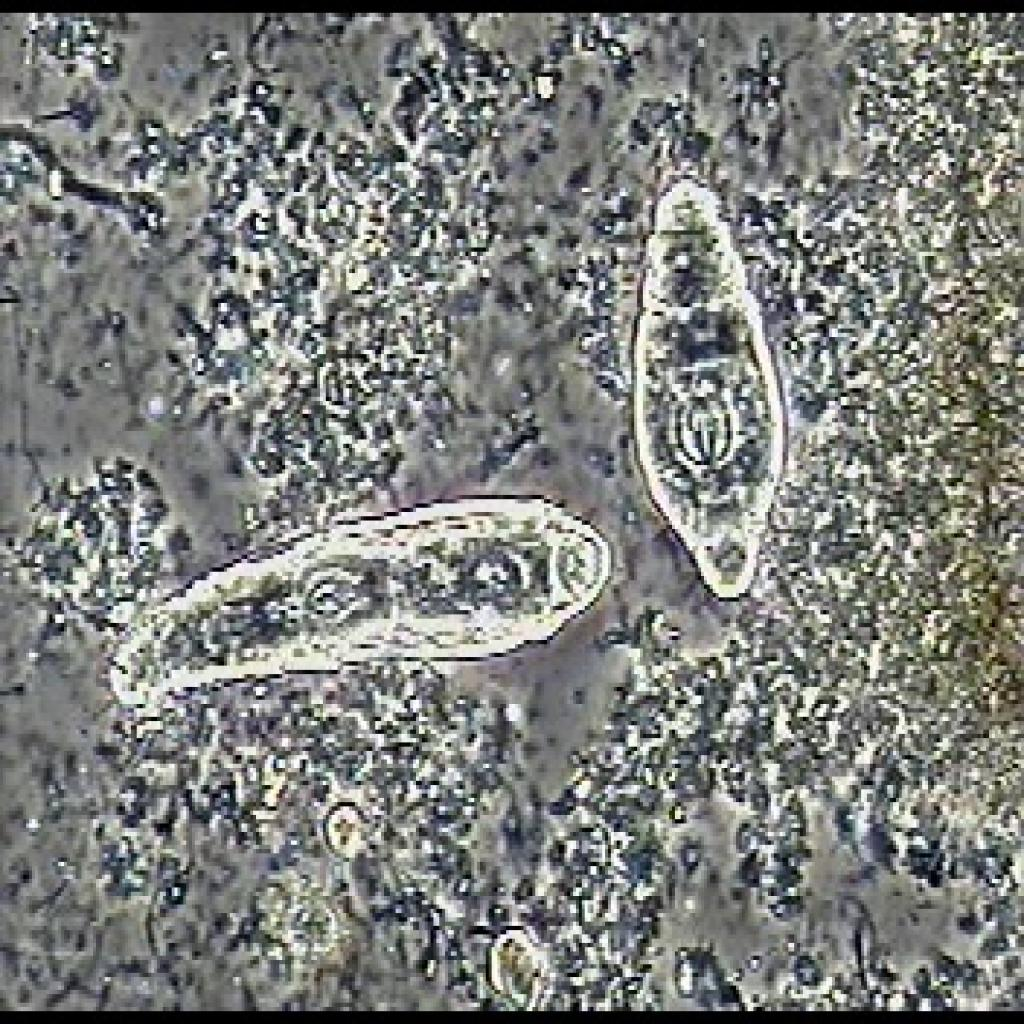Rotatoria: (92, 482, 618, 713), (608, 143, 791, 621)
